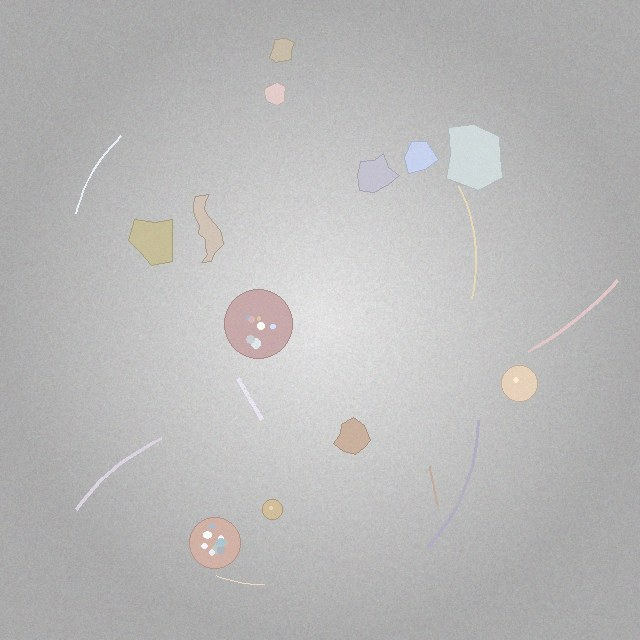fiber: (423, 416, 482, 551), (525, 277, 621, 355), (73, 435, 165, 513), (73, 134, 124, 216), (455, 184, 479, 302), (233, 374, 266, 424), (215, 574, 266, 586), (427, 464, 440, 508)
film: (193, 194, 224, 263)
foam: (224, 290, 292, 358), (190, 517, 241, 568)
fragment: (446, 125, 502, 190), (129, 219, 173, 265), (358, 153, 400, 193), (333, 417, 371, 454), (404, 141, 439, 173), (270, 39, 295, 63), (264, 83, 285, 105)
pellet: (502, 365, 538, 401), (263, 500, 283, 520)
